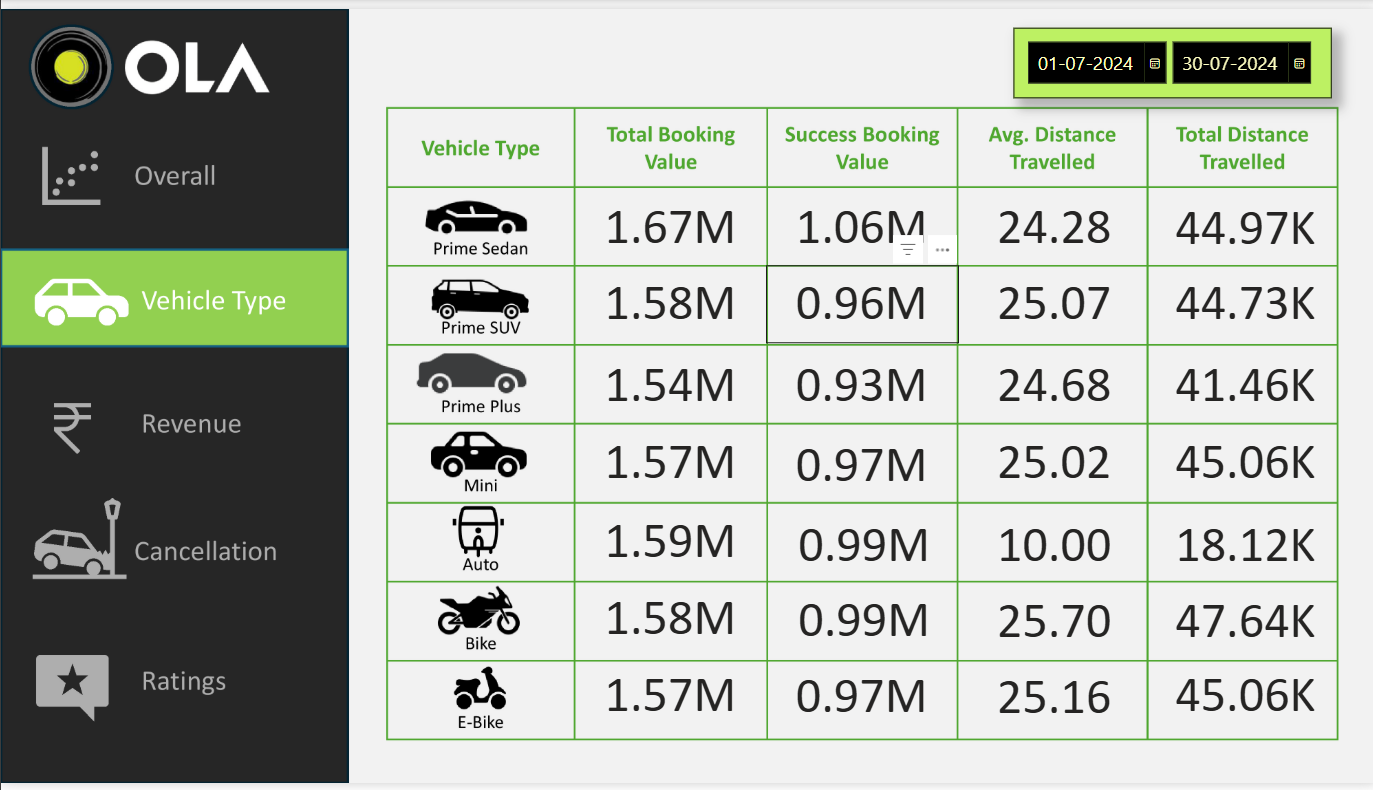

This screenshot's page, from the dashboard's own definition file:
{"tool":"powerbi","page":{"name":"Vehicle Type","canvas":[1280,720],"ordinal":1},"visuals":[{"type":"actionButton","box":[0,339.1,323.3,94.1],"z":0},{"type":"actionButton","box":[0,448,323.3,94.1],"z":1},{"type":"actionButton","box":[0,578.5,323.3,94.1],"z":2},{"type":"actionButton","box":[0,110,323.3,94.1],"z":3},{"type":"card","fields":{"Values":["Sum(booking.Booking_Value)"]},"box":[533.8,167.4,178.4,71.4],"z":4},{"type":"card","fields":{"Values":["Sum(booking.Booking_Value)"]},"box":[533.8,238.8,178.4,71.4],"z":5},{"type":"card","fields":{"Values":["Sum(booking.Booking_Value)"]},"box":[533.8,602.4,178.4,71.4],"z":7},{"type":"card","fields":{"Values":["Sum(booking.Booking_Value)"]},"box":[533.8,531,178.4,71.4],"z":8},{"type":"card","fields":{"Values":["Sum(booking.Booking_Value)"]},"box":[533.8,459.7,178.4,71.4],"z":9},{"type":"card","fields":{"Values":["Sum(booking.Booking_Value)"]},"box":[533.8,385.6,178.4,71.4],"z":10},{"type":"card","fields":{"Values":["Sum(booking.Booking_Value)"]},"box":[533.8,314.2,178.4,71.4],"z":11},{"type":"card","fields":{"Values":["Sum(booking.Booking_Value)"]},"box":[712.2,167.4,178.4,71.4],"z":12},{"type":"card","fields":{"Values":["Sum(booking.Booking_Value)"]},"box":[712.2,238.8,178.4,71.4],"z":13},{"type":"card","fields":{"Values":["Sum(booking.Booking_Value)"]},"box":[712.2,314.2,178.4,71.4],"z":14},{"type":"card","fields":{"Values":["Sum(booking.Booking_Value)"]},"box":[712.2,388.3,178.4,71.4],"z":15},{"type":"card","fields":{"Values":["Sum(booking.Booking_Value)"]},"box":[713.9,463.1,178.4,71.4],"z":16},{"type":"card","fields":{"Values":["Sum(booking.Booking_Value)"]},"box":[713.6,533.8,178.4,70],"z":17},{"type":"card","fields":{"Values":["Sum(booking.Booking_Value)"]},"box":[712.2,603.8,178.4,71.4],"z":18},{"type":"card","fields":{"Values":["Avg(booking.Ride_Distance)"]},"box":[890.6,167.4,178.4,71.4],"z":19},{"type":"card","fields":{"Values":["Avg(booking.Ride_Distance)"]},"box":[890.6,238.8,178.4,71.4],"z":20},{"type":"card","fields":{"Values":["Avg(booking.Ride_Distance)"]},"box":[890.6,314.2,178.4,71.4],"z":21},{"type":"card","fields":{"Values":["Avg(booking.Ride_Distance)"]},"box":[890.6,385.6,178.4,71.4],"z":22},{"type":"card","fields":{"Values":["Avg(booking.Ride_Distance)"]},"box":[890.6,462.4,178.4,71.4],"z":23},{"type":"card","fields":{"Values":["Avg(booking.Ride_Distance)"]},"box":[890.6,533.8,178.4,71.4],"z":24},{"type":"card","fields":{"Values":["Avg(booking.Ride_Distance)"]},"box":[890.6,605.1,178.4,71.4],"z":25},{"type":"card","fields":{"Values":["Sum(booking.Ride_Distance)"]},"box":[1069,168.8,178.4,71.4],"z":26},{"type":"card","fields":{"Values":["Sum(booking.Ride_Distance)"]},"box":[1069,238.8,178.4,71.4],"z":27},{"type":"card","fields":{"Values":["Sum(booking.Ride_Distance)"]},"box":[1069,314.2,178.4,71.4],"z":28},{"type":"card","fields":{"Values":["Sum(booking.Ride_Distance)"]},"box":[1069,385.6,178.4,71.4],"z":29},{"type":"card","fields":{"Values":["Sum(booking.Ride_Distance)"]},"box":[1069,462.4,178.4,71.4],"z":30},{"type":"card","fields":{"Values":["Sum(booking.Ride_Distance)"]},"box":[1069,535.2,178.4,70],"z":31},{"type":"card","fields":{"Values":["Sum(booking.Ride_Distance)"]},"box":[1069,602.4,178.4,71.4],"z":32},{"type":"slicer","title":"Date","fields":{"Values":["booking.Date"]},"box":[941.3,17.8,296.4,65.9],"z":33}]}

Visuals, with their boxes on the page's 1280x720 design canvas (x1, y1, x2, y2). These are canvas units, not pixel positions in the 1373x790 screenshot, which may show the page scaled, cropped or inside an application window:
actionButton: [0,339,323,433]
actionButton: [0,448,323,542]
actionButton: [0,578,323,673]
actionButton: [0,110,323,204]
card - Sum(booking.Booking_Value): [534,167,712,239]
card - Sum(booking.Booking_Value): [534,239,712,310]
card - Sum(booking.Booking_Value): [534,602,712,674]
card - Sum(booking.Booking_Value): [534,531,712,602]
card - Sum(booking.Booking_Value): [534,460,712,531]
card - Sum(booking.Booking_Value): [534,386,712,457]
card - Sum(booking.Booking_Value): [534,314,712,386]
card - Sum(booking.Booking_Value): [712,167,891,239]
card - Sum(booking.Booking_Value): [712,239,891,310]
card - Sum(booking.Booking_Value): [712,314,891,386]
card - Sum(booking.Booking_Value): [712,388,891,460]
card - Sum(booking.Booking_Value): [714,463,892,534]
card - Sum(booking.Booking_Value): [714,534,892,604]
card - Sum(booking.Booking_Value): [712,604,891,675]
card - Avg(booking.Ride_Distance): [891,167,1069,239]
card - Avg(booking.Ride_Distance): [891,239,1069,310]
card - Avg(booking.Ride_Distance): [891,314,1069,386]
card - Avg(booking.Ride_Distance): [891,386,1069,457]
card - Avg(booking.Ride_Distance): [891,462,1069,534]
card - Avg(booking.Ride_Distance): [891,534,1069,605]
card - Avg(booking.Ride_Distance): [891,605,1069,676]
card - Sum(booking.Ride_Distance): [1069,169,1247,240]
card - Sum(booking.Ride_Distance): [1069,239,1247,310]
card - Sum(booking.Ride_Distance): [1069,314,1247,386]
card - Sum(booking.Ride_Distance): [1069,386,1247,457]
card - Sum(booking.Ride_Distance): [1069,462,1247,534]
card - Sum(booking.Ride_Distance): [1069,535,1247,605]
card - Sum(booking.Ride_Distance): [1069,602,1247,674]
"Date" slicer: [941,18,1238,84]
